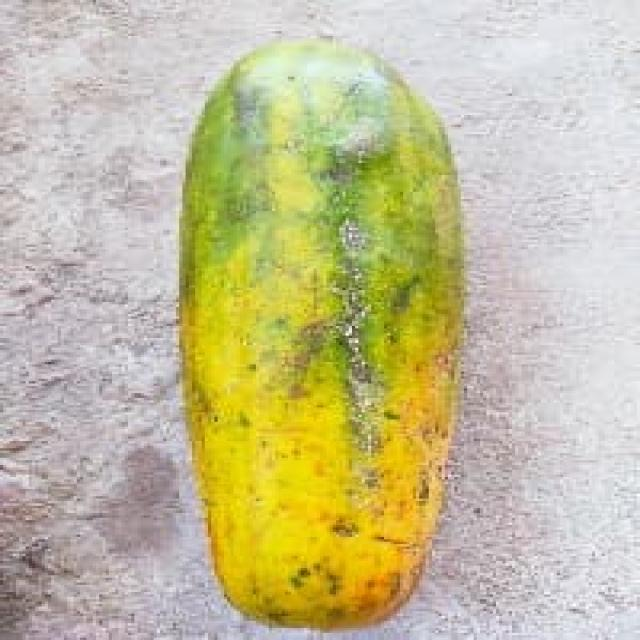Pepaya: (173, 34, 467, 630)
